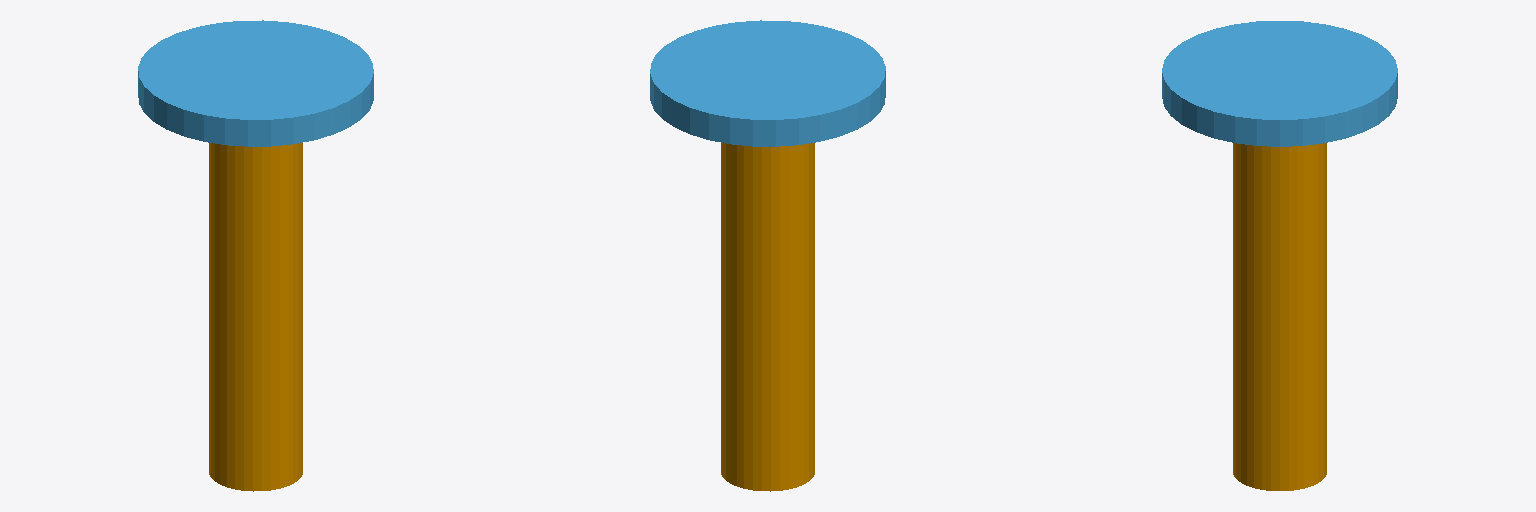
The robot description file, URDF, robot "screw":
<?xml version="1.0"?>
<robot name="screw"
       xmlns:xi="http://www.w3.org/2001/XInclude"
       xmlns:gazebo="http://playerstage.sourceforge.net/gazebo/xmlschema/#gz"
       xmlns:model="http://playerstage.sourceforge.net/gazebo/xmlschema/#model"
       xmlns:sensor="http://playerstage.sourceforge.net/gazebo/xmlschema/#sensor"
       xmlns:body="http://playerstage.sourceforge.net/gazebo/xmlschema/#body"
       xmlns:geom="http://playerstage.sourceforge.net/gazebo/xmlschema/#geom"
       xmlns:joint="http://playerstage.sourceforge.net/gazebo/xmlschema/#joint"
       xmlns:interface="http://playerstage.sourceforge.net/gazebo/xmlschema/#interface"
       xmlns:rendering="http://playerstage.sourceforge.net/gazebo/xmlschema/#rendering"
       xmlns:renderable="http://playerstage.sourceforge.net/gazebo/xmlschema/#renderable"
       xmlns:controller="http://playerstage.sourceforge.net/gazebo/xmlschema/#controller"
       xmlns:physics="http://playerstage.sourceforge.net/gazebo/xmlschema/#physics">
  <link name="body">
    <inertial>
      <mass value=".0005"/>
      <origin xyz="0 0 0" rpy="0 0 0"/>
      <inertia ixx="100" ixy="0" ixz="0" 
               iyy="100" iyz="0" 
               izz="100"/>
    </inertial>    
    <visual>
      <geometry>
        <cylinder length="0.035" radius="0.004"/>
      </geometry>
      <origin xyz="0 0 0"/>
    </visual>
    <collision>
      <geometry>
        <cylinder length="0.035" radius="0.004"/>
      </geometry>
    </collision>    
  </link>
  <gazebo reference="body">
    <material>
	IPA/Grey
    </material>
  </gazebo>

  <link name="head">
    <inertial>
      <mass value=".0005"/>
      <origin xyz="0 0 0.01875" rpy="0 0 0"/>
      <inertia ixx="100" ixy="0" ixz="0" 
               iyy="100" iyz="0" 
               izz="100"/>
    </inertial>  
    <visual>
      <geometry>
        <cylinder length="0.0025" radius="0.01"/>
      </geometry>
      <origin xyz="0 0 0.01875" rpy="0 0 0"/>
    </visual>
    <collision>
      <geometry>
        <cylinder length="0.0025" radius="0.01"/>
      </geometry>
    </collision>
  </link>
  <gazebo reference="head">
    <material>
	IPA/Grey
    </material>
  </gazebo>

  <joint name="body_to_head" type="fixed">
    <parent link="body"/>
    <child link="head"/>  
  </joint>
</robot>

--- What the picture shows (computed from the rendered views, not written in the file) ---
Views: 3 orthographic renders of the robot side by side, from view 1: azimuth 30°, elevation 25°; view 2: azimuth 150°, elevation 25°; view 3: azimuth 270°, elevation 25°.
Robot: screw — 2 links, 1 joints (1 fixed); root link body; default pose: all joints at 0.
Links seen in each view (by area): view 1: body, head; view 2: body, head; view 3: body, head.
Boxes of the visible links, left/top/right/bottom form: body: left=209, top=143, right=302, bottom=491; head: left=138, top=20, right=373, bottom=146; body: left=721, top=143, right=814, bottom=491; head: left=650, top=20, right=885, bottom=146; body: left=1233, top=143, right=1326, bottom=490; head: left=1162, top=21, right=1397, bottom=146.
Bounding box of the posed robot: 0.02 × 0.02 × 0.0375 m (x, y, z).
Geometry: primitives only (box / cylinder / sphere), no mesh files.